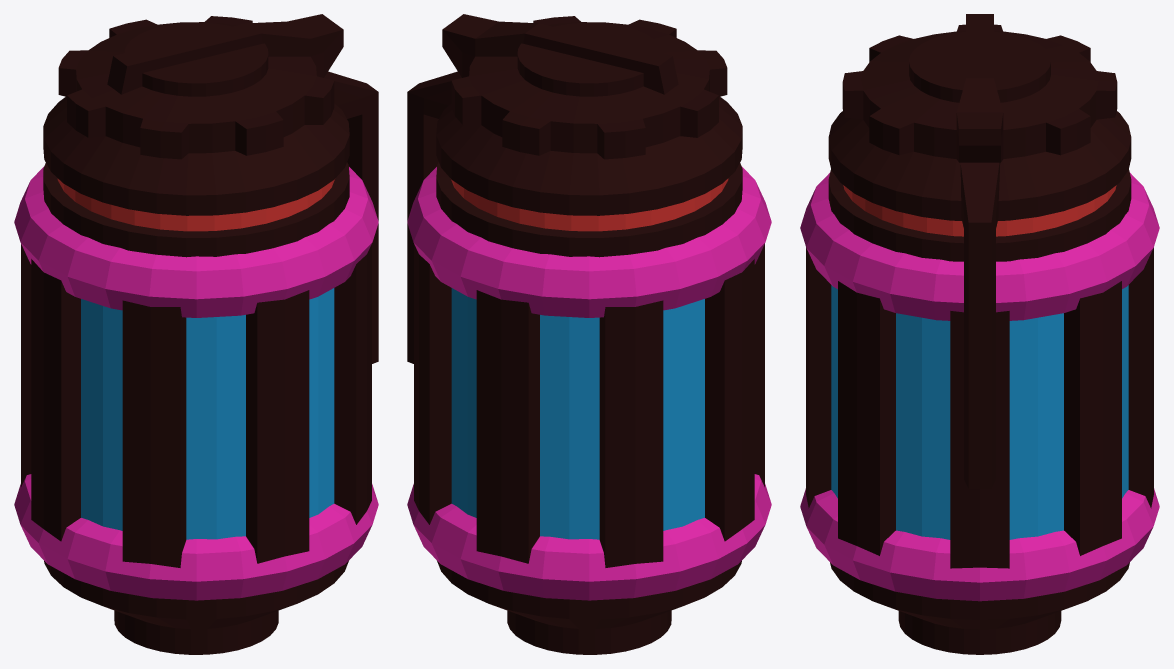
The model's file is Plasma_Grenade.fbx.
3 views of the same model, side by side, from view 1: azimuth 30°, elevation 25°; view 2: azimuth 150°, elevation 25°; view 3: azimuth 270°, elevation 25° (orthographic).
Visible parts, largest first — view 1: Grenade-S-Low; view 2: Grenade-S-Low; view 3: Grenade-S-Low.
Boxes of the visible parts, bbox=[...] form: Grenade-S-Low: bbox=[14, 14, 378, 654]; Grenade-S-Low: bbox=[407, 14, 771, 654]; Grenade-S-Low: bbox=[800, 14, 1159, 654].
Size of the model in its own units: 8.67 by 14.31 by 8.19.
